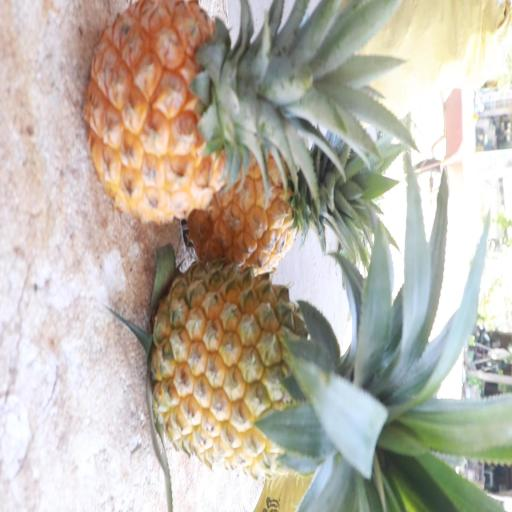Pineapple - v8 v1: (146, 260, 398, 470), (78, 0, 298, 228), (186, 130, 348, 272)
